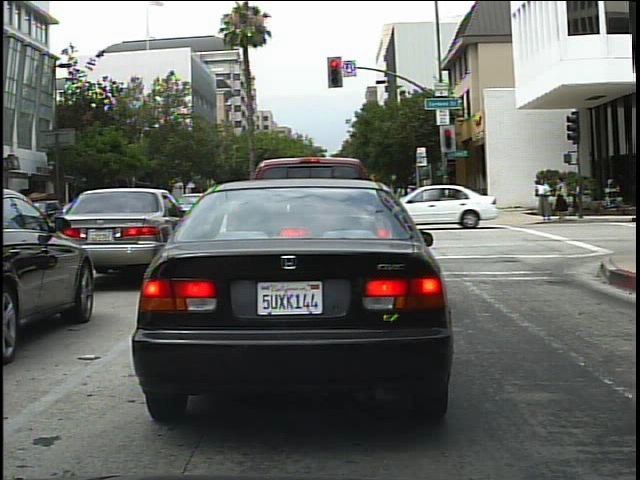person: (552, 172, 574, 223), (536, 170, 555, 222)
